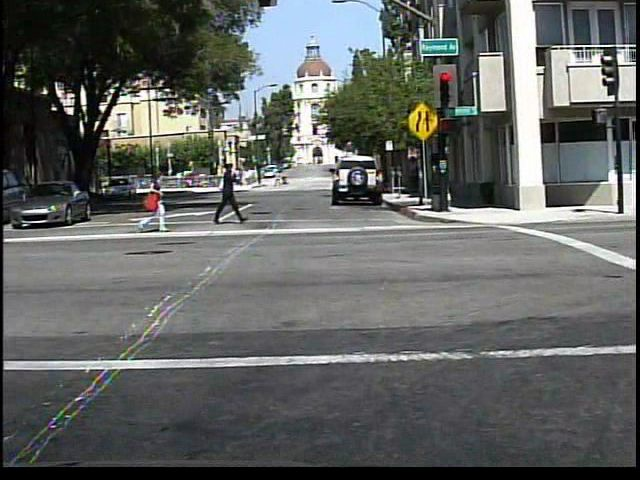person: (133, 161, 170, 235), (206, 158, 245, 227), (272, 168, 281, 188), (280, 170, 287, 188)
